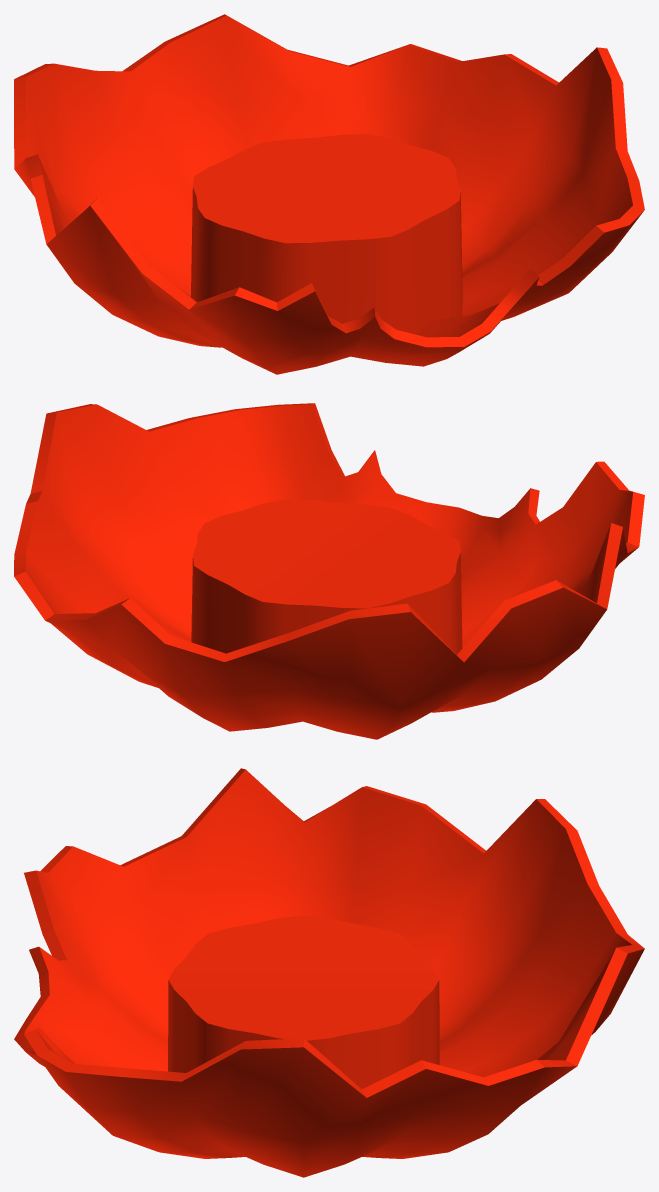
Rendered from jack_portal_base.FBX.
The picture shows the model from 3 angles, top to bottom: view 1: azimuth 30°, elevation 25°; view 2: azimuth 150°, elevation 25°; view 3: azimuth 270°, elevation 25°; orthographic projection. The views are drawn at different scales.
Visible parts, largest first — view 1: jack; view 2: jack; view 3: jack.
Part boxes in pixels (bbox=[...]): jack: bbox=[14, 14, 644, 374]; jack: bbox=[14, 403, 644, 739]; jack: bbox=[14, 768, 644, 1177].
Bounding box in the file's own units: 50.23 × 17.53 × 46.46.
